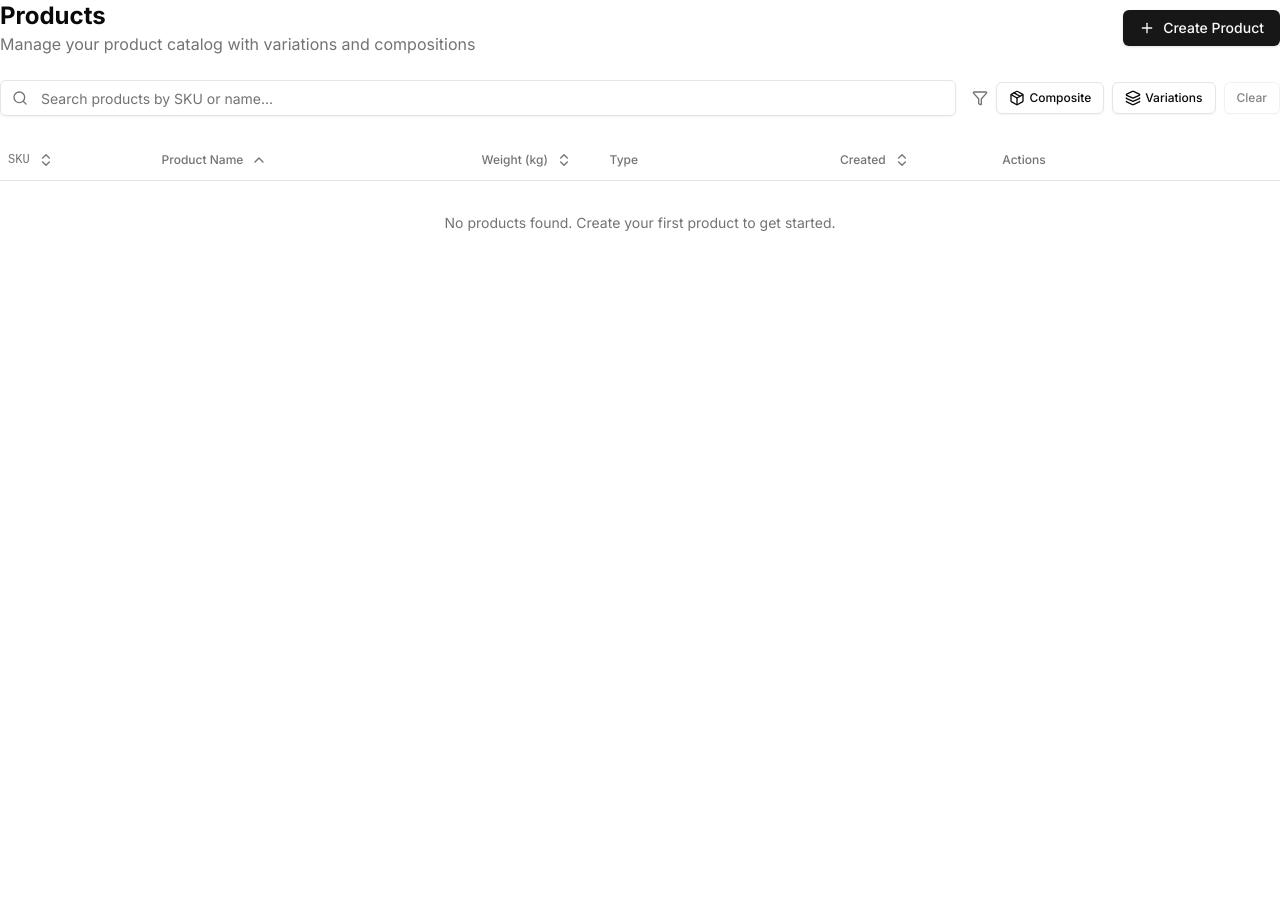
ProductManagement Integration › opens create product modal when create button is clicked
Click the button "Create Product" at point(1202, 28), box [1123,10,1279,46]
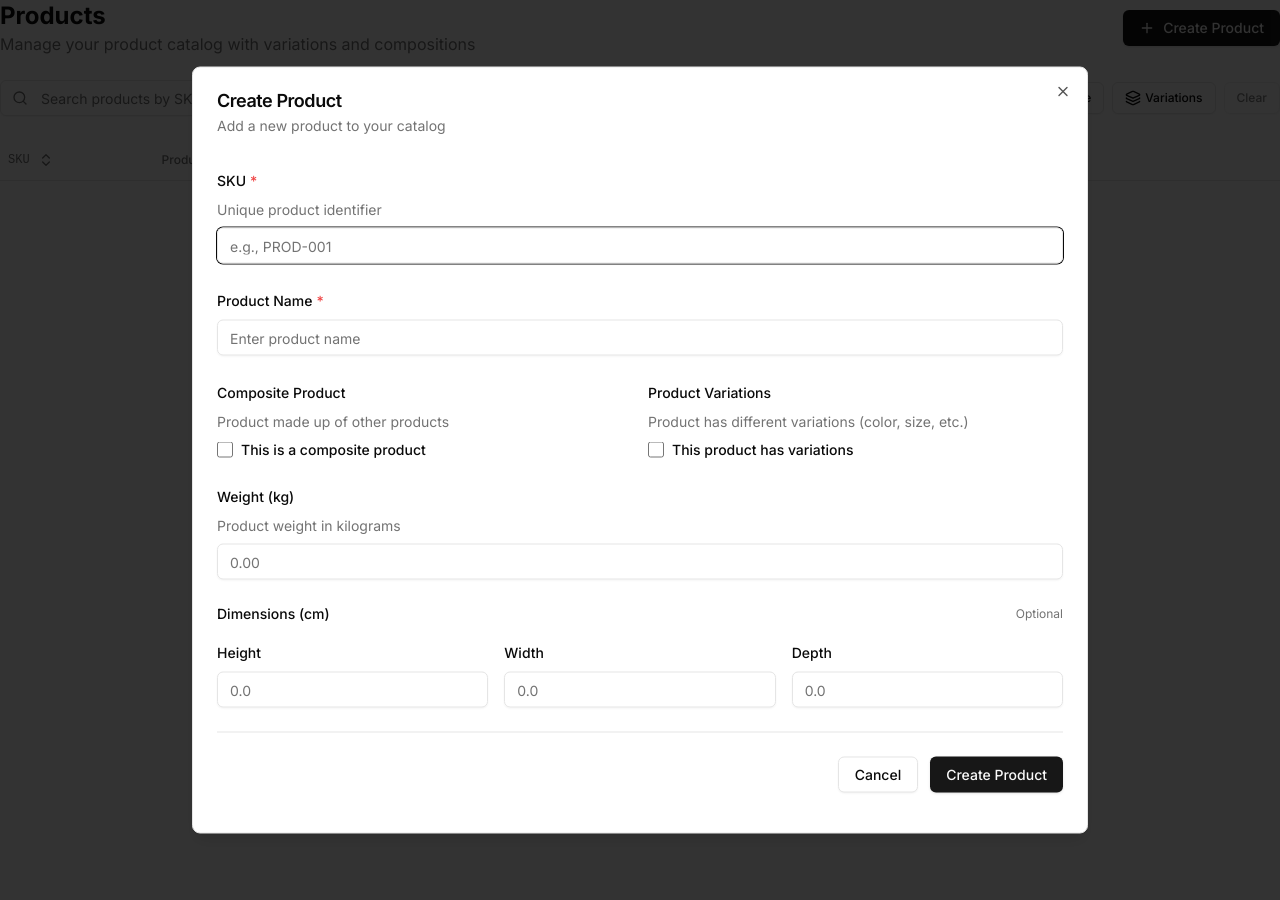
Expected: the text "Add a new product to your catalog" is shown, [217,116,446,134]
Expected: the field with placeholder "e.g., PROD-001" is shown, [217,228,1063,264]
